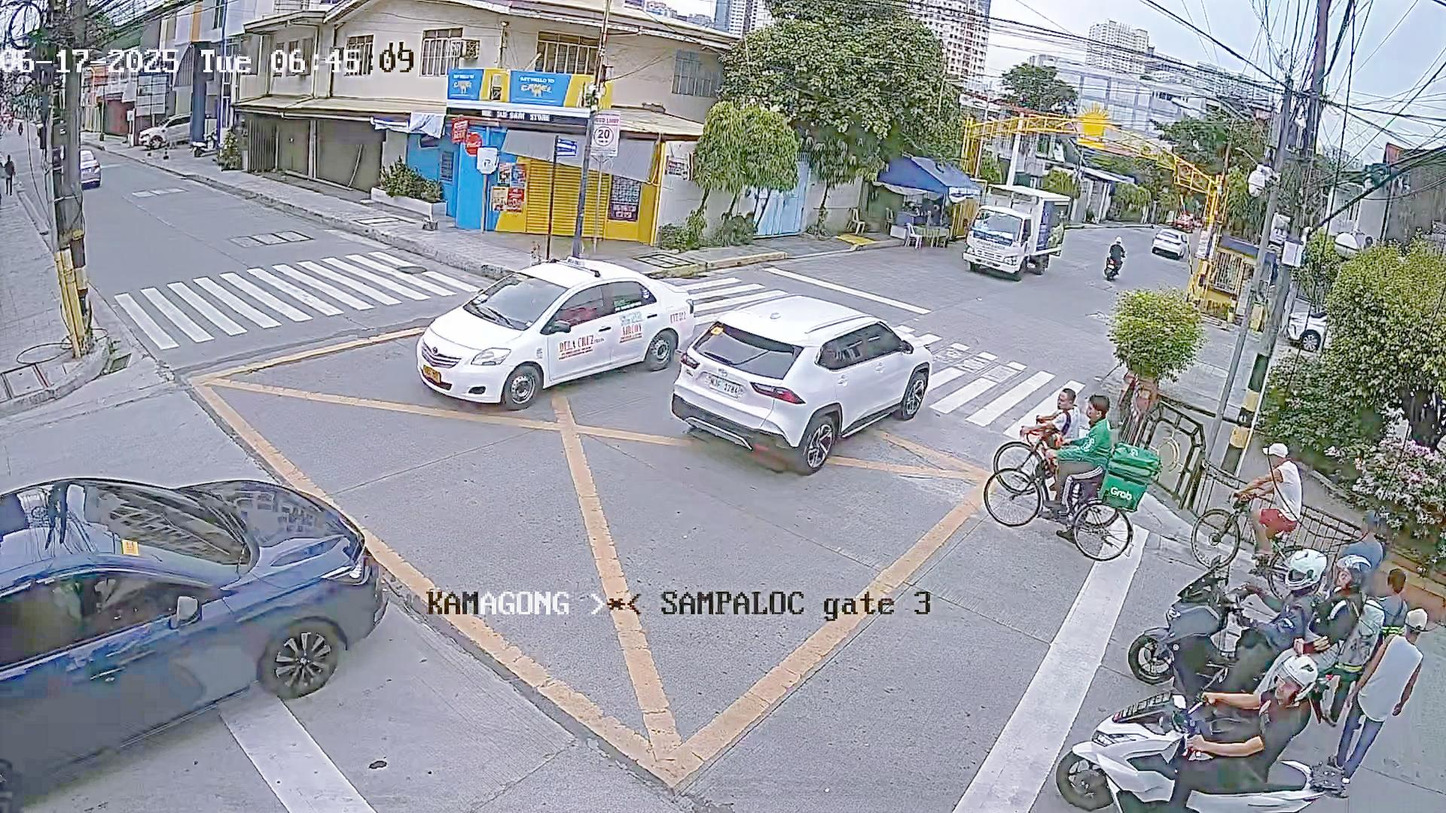Car: (0, 440, 371, 780), (395, 249, 699, 416), (672, 283, 959, 459), (57, 140, 114, 205), (1152, 228, 1193, 276)
Motor: (1015, 669, 1356, 813), (1123, 548, 1365, 691)
